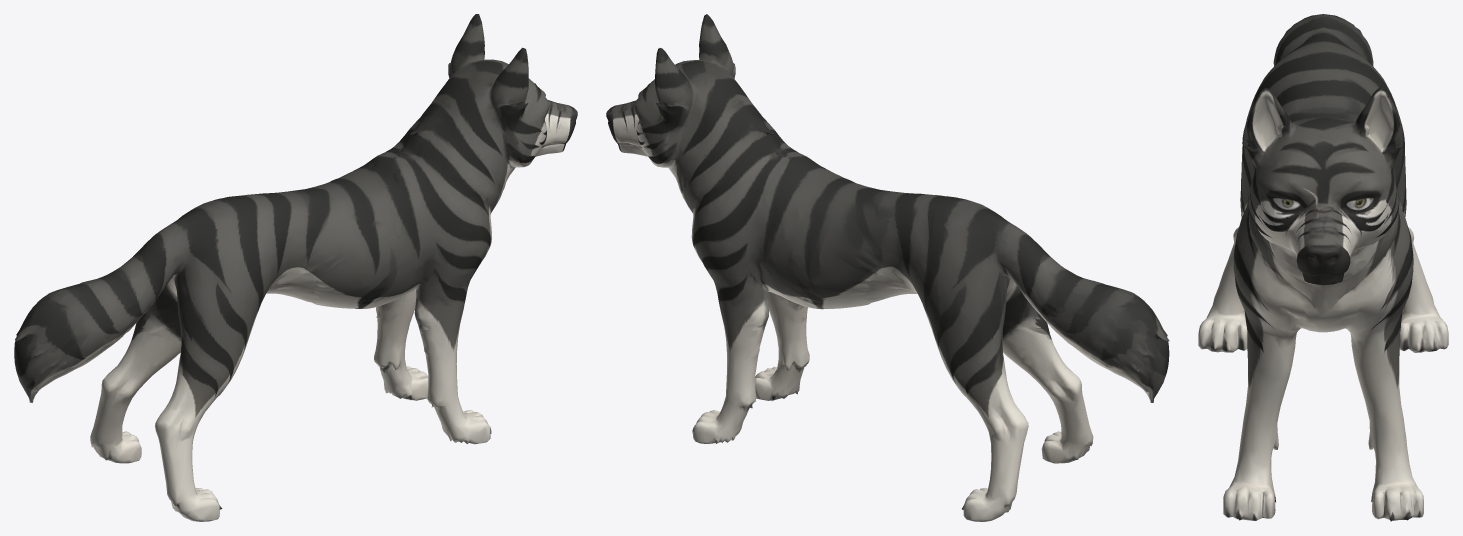
Rendered from kagetora_true.glb.
3 renders of one model, left to right at view 1: azimuth 30°, elevation 25°; view 2: azimuth 150°, elevation 25°; view 3: azimuth 270°, elevation 25°, orthographic. The views are drawn at different scales.
Parts seen in each view (by area): view 1: tripo_node_a5ce0c04-7c0b-4b91-99a3-0efd1af33e24; view 2: tripo_node_a5ce0c04-7c0b-4b91-99a3-0efd1af33e24; view 3: tripo_node_a5ce0c04-7c0b-4b91-99a3-0efd1af33e24.
Boxes of the visible parts, <box> form: tripo_node_a5ce0c04-7c0b-4b91-99a3-0efd1af33e24: <box>14,14,577,521</box>; tripo_node_a5ce0c04-7c0b-4b91-99a3-0efd1af33e24: <box>606,14,1169,521</box>; tripo_node_a5ce0c04-7c0b-4b91-99a3-0efd1af33e24: <box>1198,14,1448,521</box>.
Bounding box in the file's own units: 0.9954 × 0.6327 × 0.3095.
Materials: 1 (1 with a texture image).
